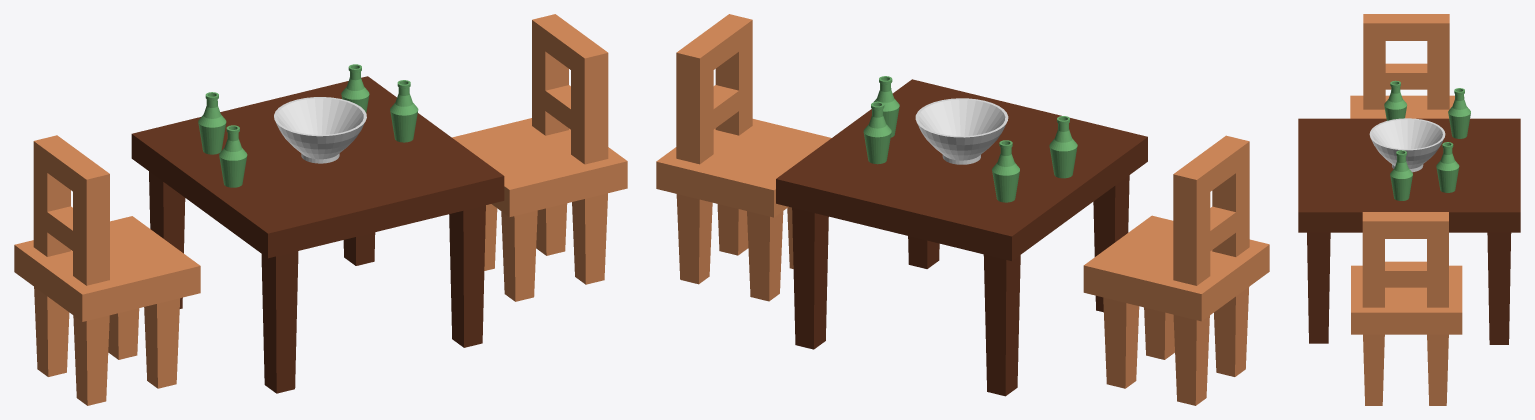
File: table.glb
3 renders of one model, left to right at view 1: azimuth 30°, elevation 25°; view 2: azimuth 150°, elevation 25°; view 3: azimuth 270°, elevation 25°, orthographic. The views are drawn at different scales.
Visible parts, largest first — view 1: Cube, Cube.005, Cube.006, Cylinder.004, Cylinder.001, Cylinder.003, Cylinder.002, Cylinder; view 2: Cube, Cube.005, Cube.006, Cylinder.004, Cylinder.001, Cylinder, Cylinder.002, Cylinder.003; view 3: Cube, Cube.006, Cube.005, Cylinder.004, Cylinder, Cylinder.003, Cylinder.001, Cylinder.002.
Boxes of the visible parts, x1,y1,x2,y2 form: Cube: [131, 76, 504, 393]; Cube.005: [14, 135, 200, 405]; Cube.006: [452, 14, 627, 301]; Cylinder.004: [274, 97, 366, 163]; Cylinder.001: [198, 92, 226, 154]; Cylinder.003: [390, 80, 418, 142]; Cylinder.002: [219, 125, 247, 187]; Cylinder: [341, 64, 369, 112]; Cube: [776, 79, 1147, 396]; Cube.005: [1083, 135, 1269, 405]; Cube.006: [656, 14, 831, 301]; Cylinder.004: [915, 98, 1008, 164]; Cylinder.001: [992, 140, 1019, 202]; Cylinder: [863, 101, 891, 164]; Cylinder.002: [1049, 116, 1077, 178]; Cylinder.003: [874, 76, 899, 137]; Cube: [1298, 118, 1520, 344]; Cube.006: [1351, 212, 1462, 405]; Cube.005: [1350, 14, 1454, 118]; Cylinder.004: [1369, 118, 1445, 172]; Cylinder: [1436, 142, 1459, 192]; Cylinder.003: [1390, 150, 1412, 200]; Cylinder.001: [1448, 88, 1470, 138]; Cylinder.002: [1384, 80, 1406, 120].
Bounding box in the file's own units: 9.24 × 3.69 × 4.
